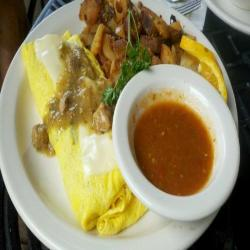omelette: (22, 40, 145, 235)
